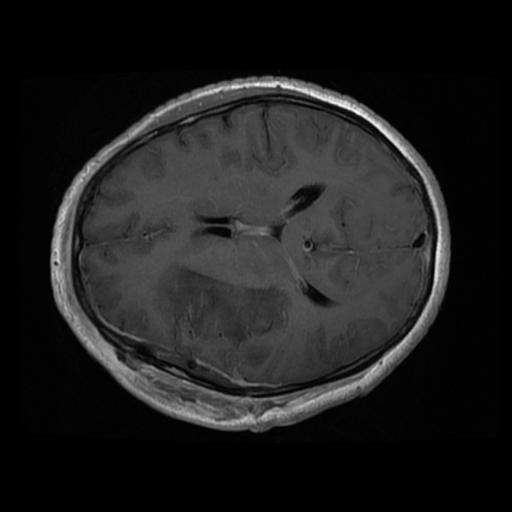glioma: (152, 261, 288, 350)
